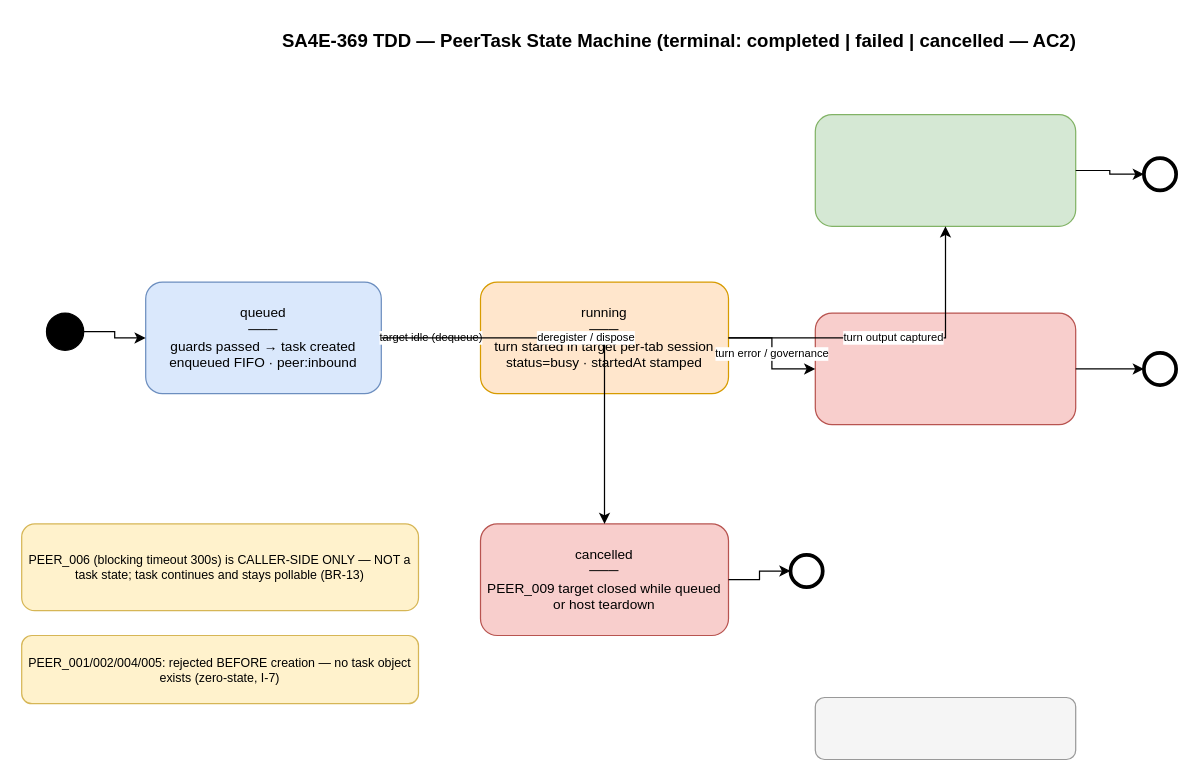
Some shapes in this 1199 by 781 pixel diagram are drawn without their labels. Here are the shapes that lost their labels. From the top down, the centre of each, then its label:
the point at 945,169: completed ─── reply captured · thread appended waiter resolved / polls observe
the point at 945,368: failed ─── PEER_003 turn/session error PEER_007 governance (authoritative)
the point at 945,728: post-terminal retention 60s → task deleted from store (bounded memory §8.2)
